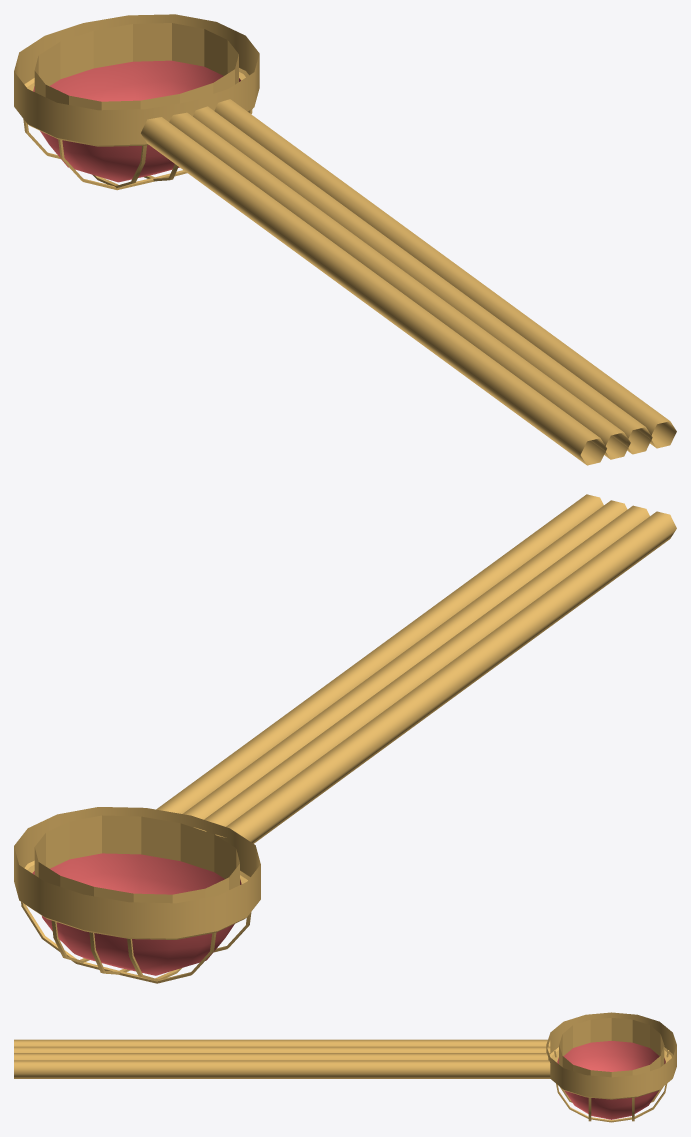
Rendered from lightA.fbx.
The picture shows the model from 3 angles, top to bottom: view 1: azimuth 30°, elevation 25°; view 2: azimuth 150°, elevation 25°; view 3: azimuth 270°, elevation 25°; orthographic projection. The views are drawn at different scales.
Visible parts, largest first — view 1: lightA; view 2: lightA; view 3: lightA.
Part boxes in pixels (box(x1,y1,x2,y2)): lightA: box(14, 14, 676, 465); lightA: box(14, 494, 676, 983); lightA: box(14, 1012, 676, 1122).
Bounding box in the file's own units: 42.34 × 20.54 × 183.
